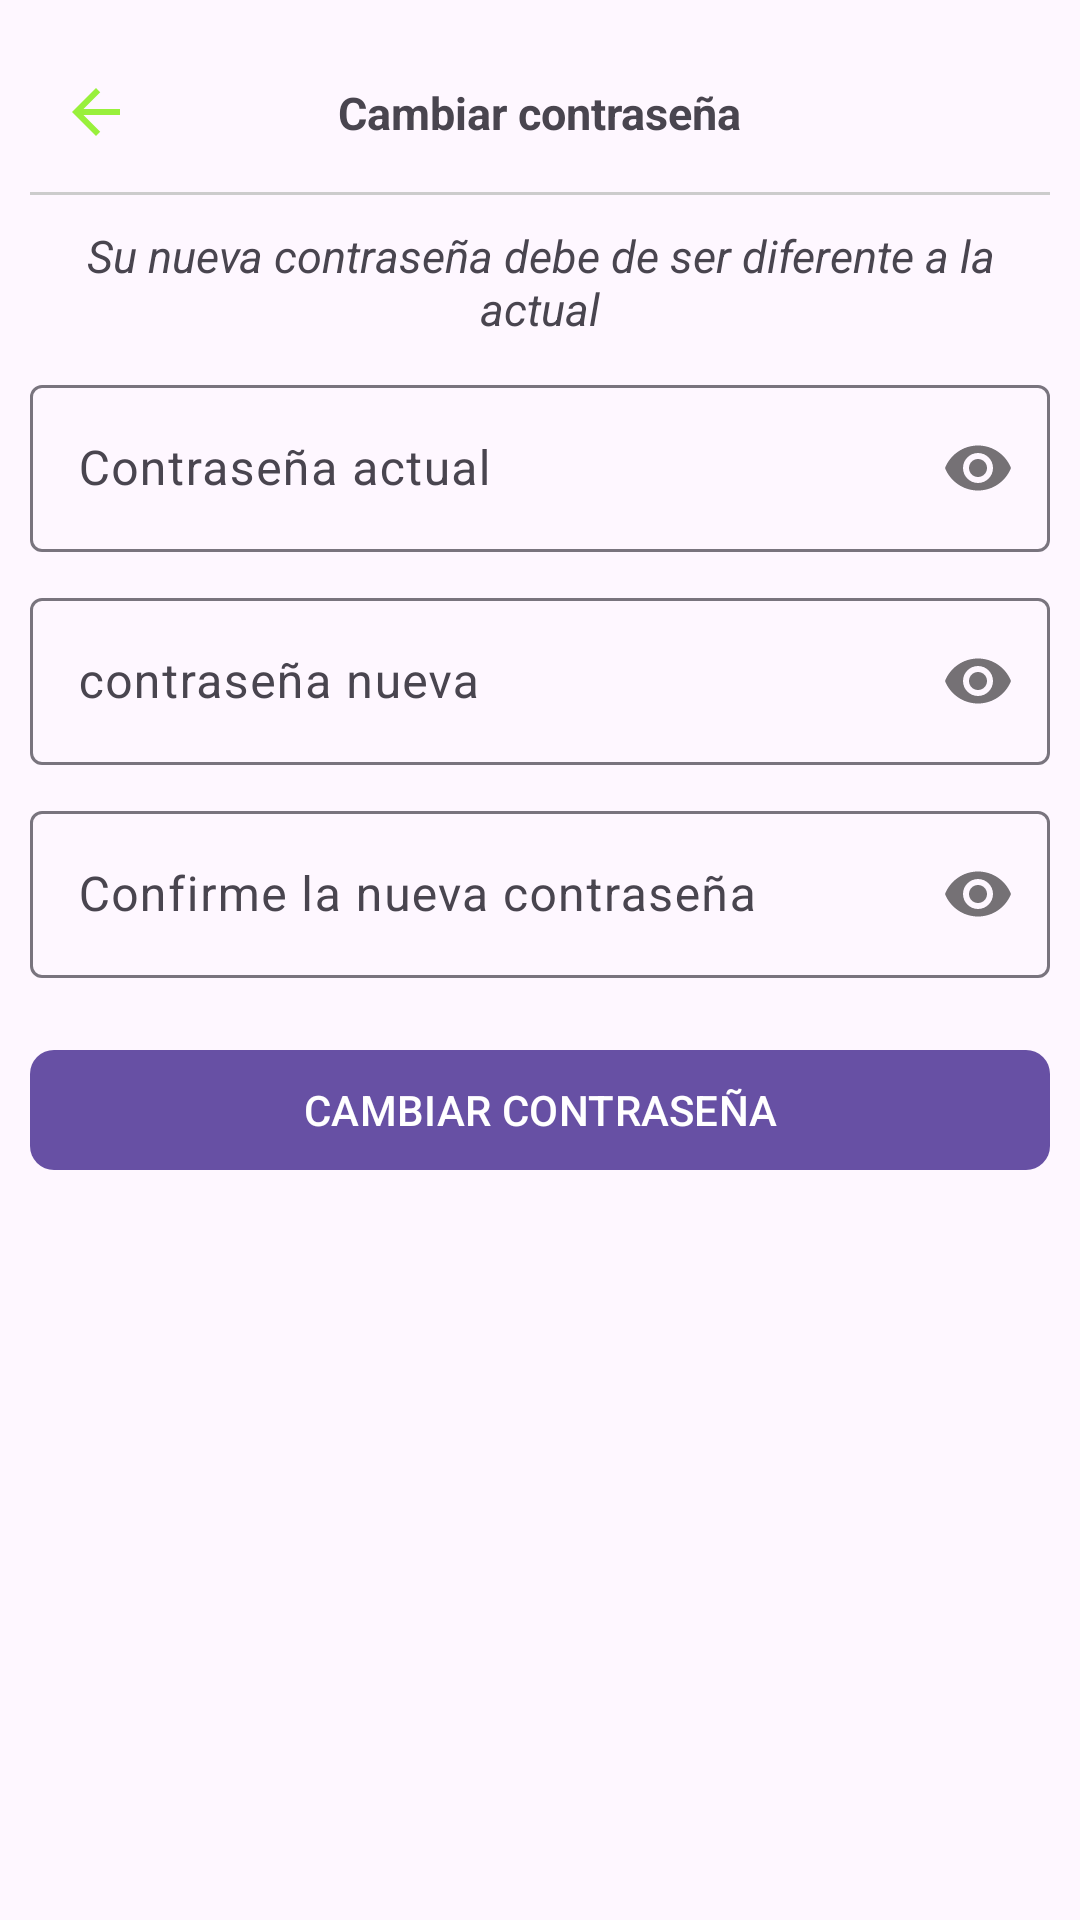

Icon bounding boxes for this 1080 × 1920 phone screenshot, format [x1, y1, x2, y2]:
regresar: [72, 88, 120, 136]
